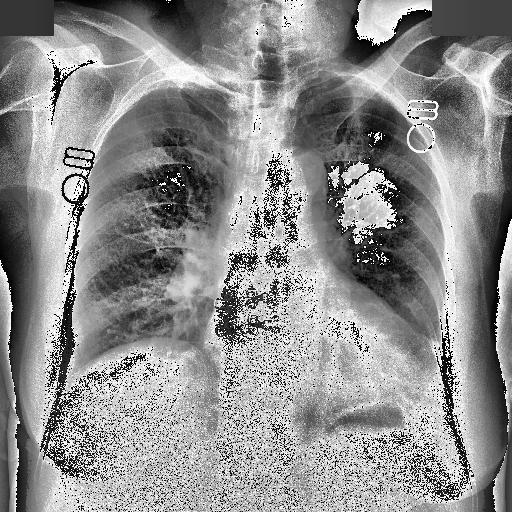0- Aortic enlargement: (270, 148, 328, 226), (264, 145, 328, 215), (276, 148, 330, 205)
11- Pleural thickening: (147, 66, 241, 90)
3- Cardiomegaly: (199, 293, 440, 400), (203, 304, 440, 408), (186, 301, 434, 384)
